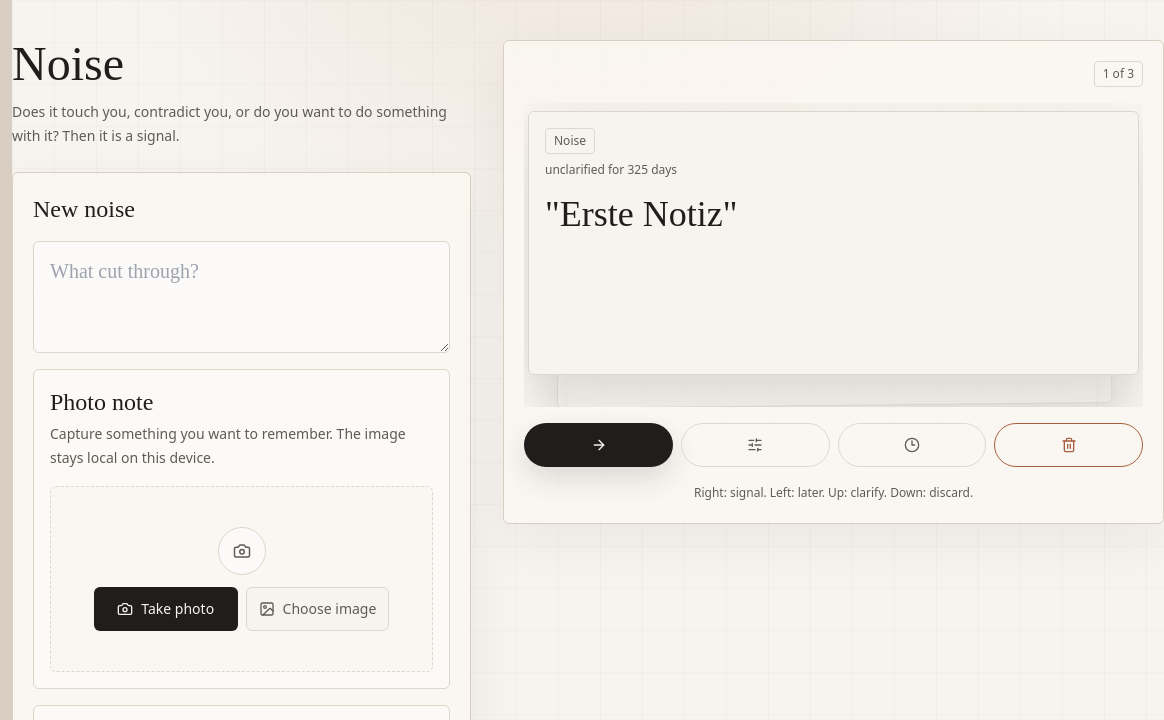
Test: InboxPage › übernimmt den Eintrag per "Signal" in die Signale und zeigt den nächsten
The image size is (1164, 720).
Expected: the text "\"Erste Notiz\"" is shown, [545,194,738,234]
What coordinates should you click on to do the following:
click the button named "Signal"
I would click on:
 (599, 445)
Its box is [524,423,673,467].
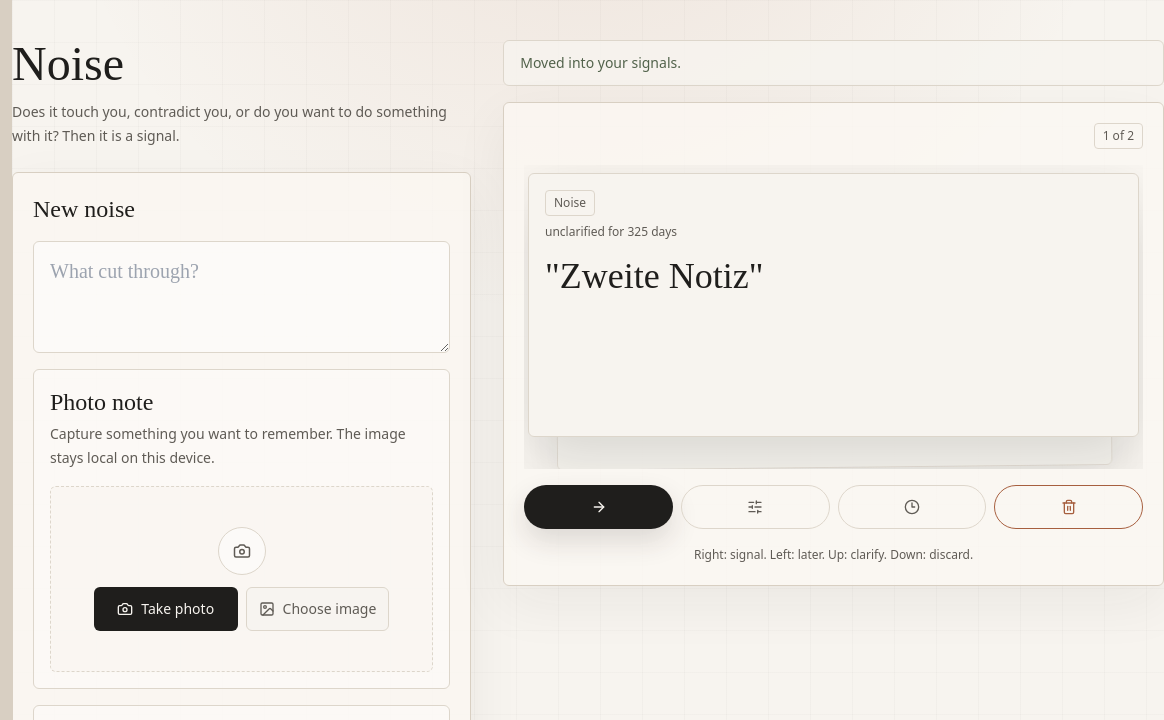
Result: the text "Moved into your signals." is shown at [503,40,1163,86]
Result: the text "\"Zweite Notiz\"" is shown at [545,256,764,296]
Result: the text "1 of 2" is shown at [1094,123,1143,149]
